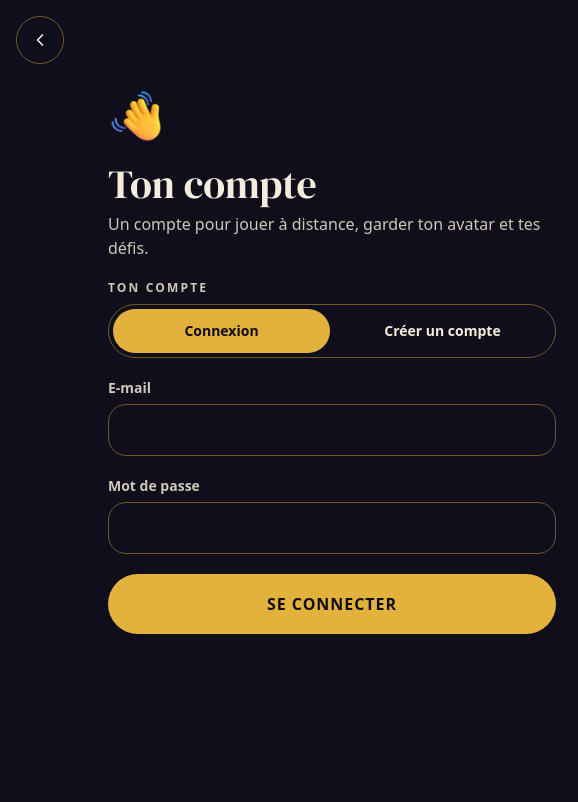
Test: signing up with a taken nickname format is validated before sending
Click the radio button labelled "Créer un compte" at {"x": 442, "y": 330}, box [384,321,501,340]
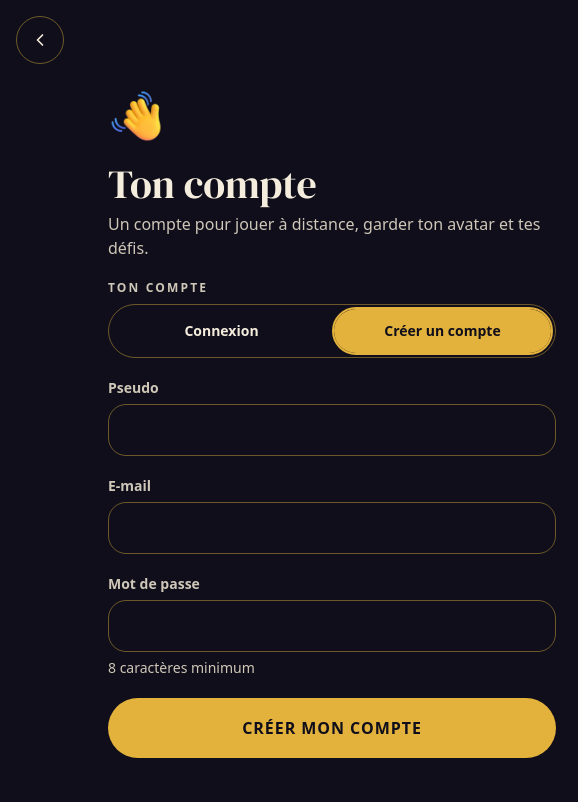
Type "x@example.com" into the field labelled "E-mail" at {"x": 332, "y": 528}, box [108,502,556,554]
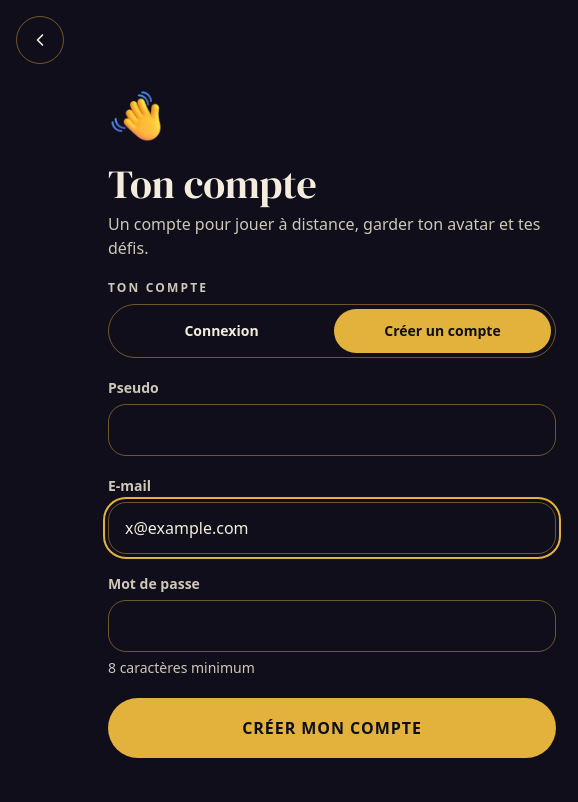
Type "motdepasse" into the password field labelled "Mot de passe" at {"x": 332, "y": 626}, box [108,600,556,652]
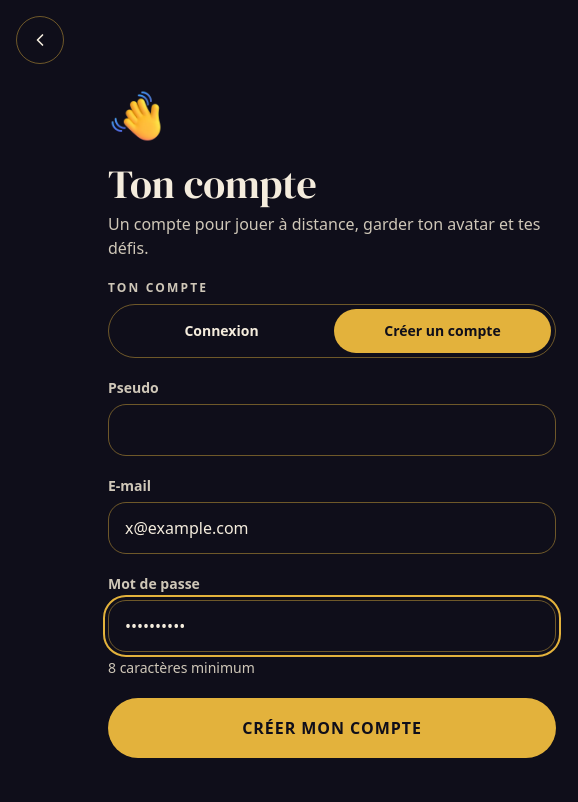
Click the button "Créer mon compte" at {"x": 332, "y": 728}, box [108,698,556,758]
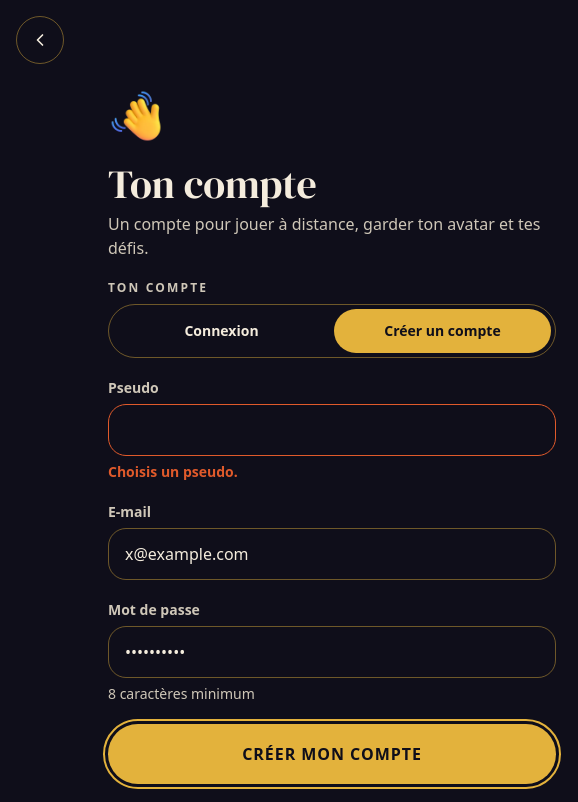
Check: the text "Choisis un pseudo." is shown, box [108,462,238,481]
